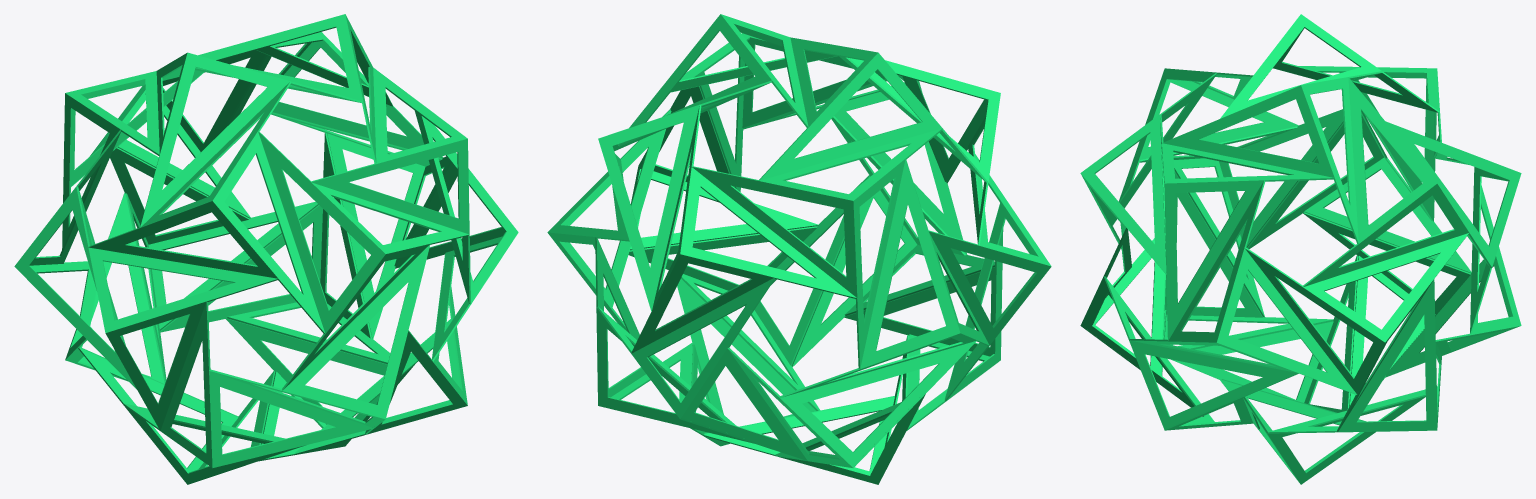
Rendered from Dodecahedron3.glb.
3 renders of one model, left to right at view 1: azimuth 30°, elevation 25°; view 2: azimuth 150°, elevation 25°; view 3: azimuth 270°, elevation 25°, orthographic. The views are drawn at different scales.
Visible parts, largest first — view 1: root; view 2: root; view 3: root.
Part boxes in pixels (x1,y1,x2,y2): root: (14,14,518,484); root: (547,14,1051,484); root: (1080,14,1521,484).
Bounding box in the file's own units: 2.62 × 2.62 × 2.62.
